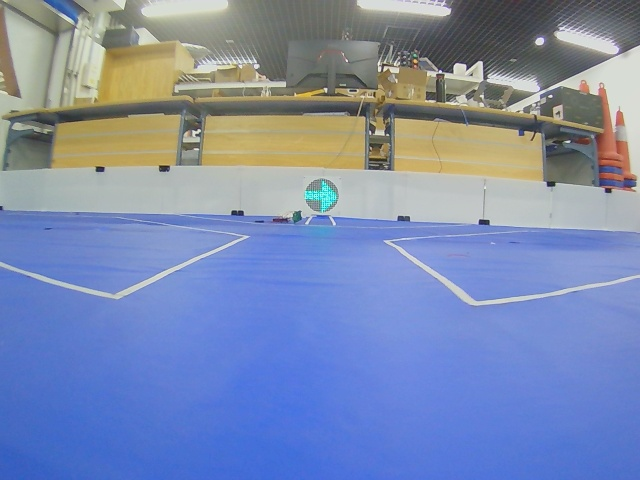right_green: (304, 178, 339, 213)
